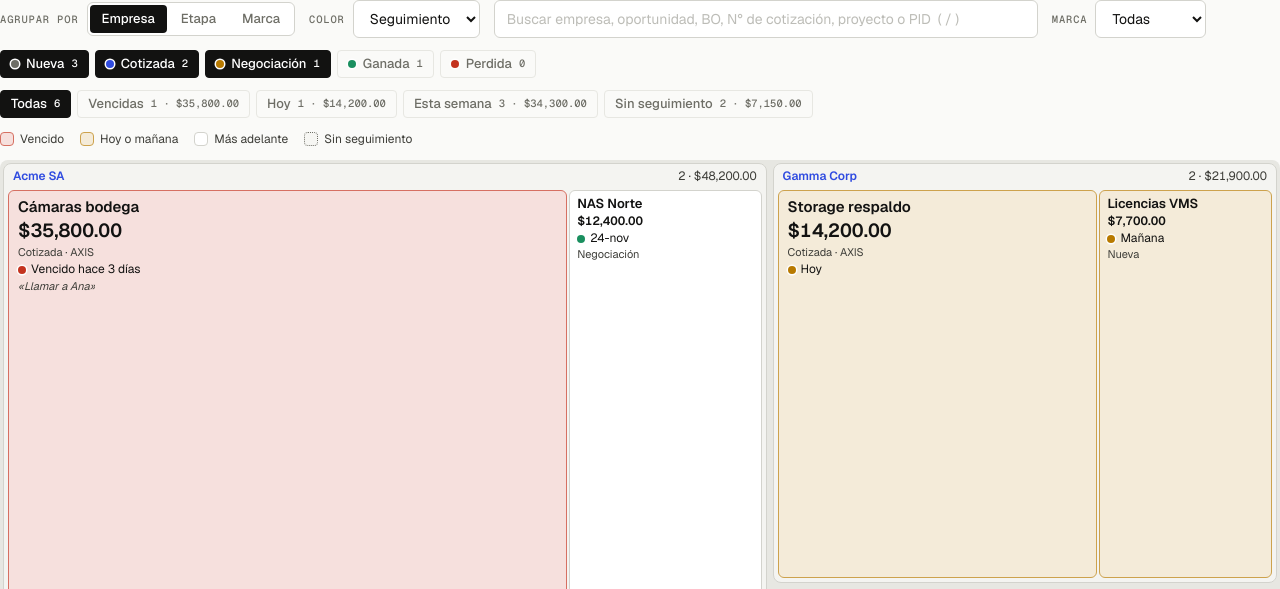
Test: MapaTab › si lo buscado existe en una etapa oculta, lo dice y ofrece verlas todas
This screenshot has width=1280, height=589.
Later steps or results of the test are not shown.
Replace the text in the search field named "Buscar en el mapa" with "Orden cerrada" at (766, 19), box [494,0,1038,38]
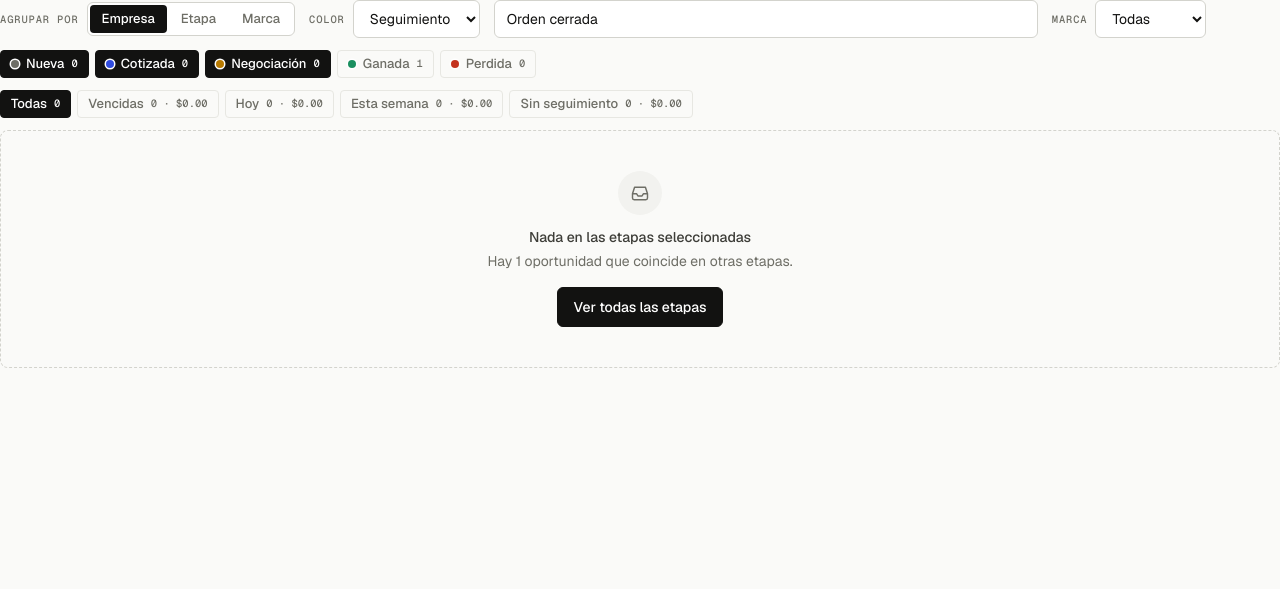
Check: the text "Nada en las etapas seleccionadas" is shown, box [529,227,751,247]
Check: the text "Hay 1 oportunidad que coincide en otras etapas." is shown, box [488,251,793,271]
